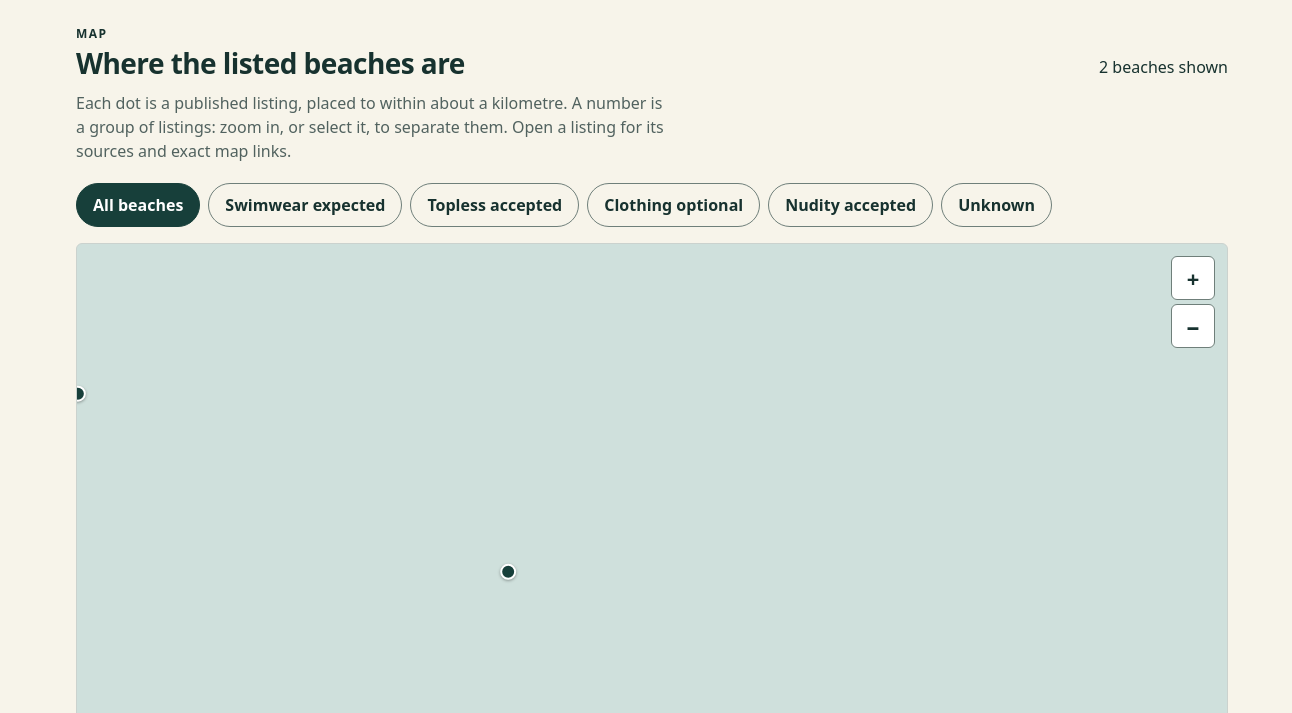
Test: MapPage › starts from a view given in the address and records zooming
Expected: the button named "Plaka" is shown, [494,558,522,586]
Click the button named "Zoom in" at [1193, 278], box [1171,256,1215,300]
(page scrolled)
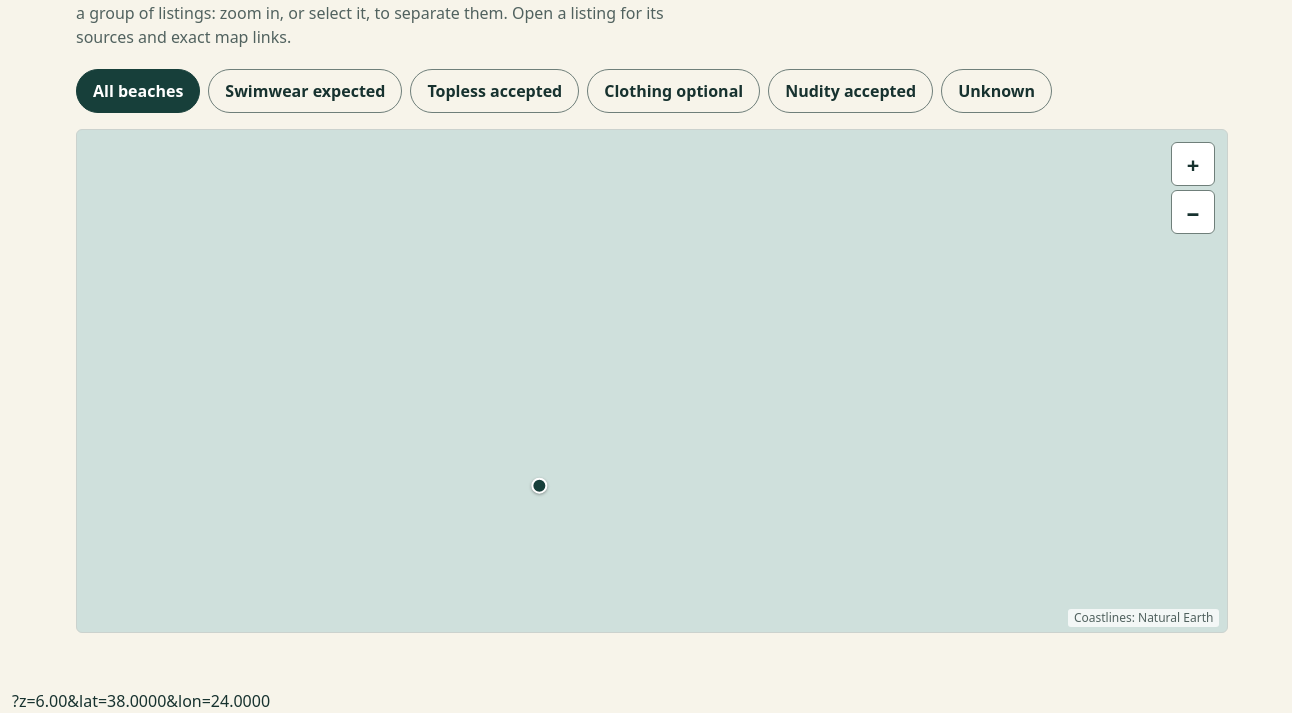
Now the text with test id "location" reads "?z=6.00&lat=38.0000&lon=24.0000", box [12,690,270,712]
